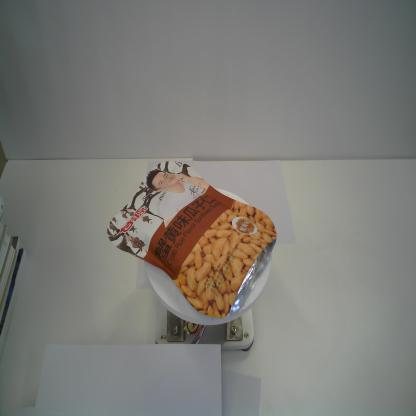Dried Fruit: (106, 160, 277, 320)
